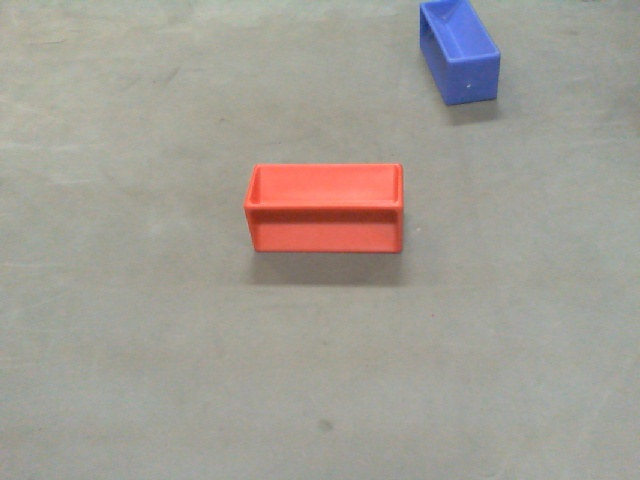BlueSample: (413, 1, 502, 112)
RedSample: (242, 162, 406, 257)
